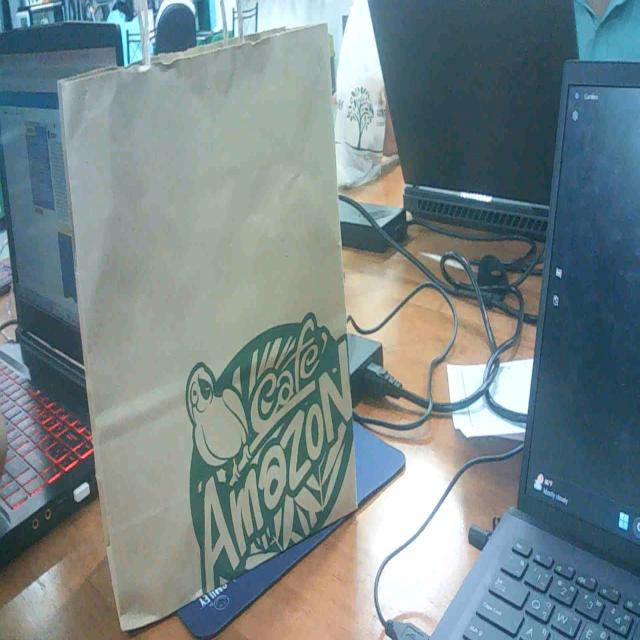bag: (67, 32, 340, 578)
